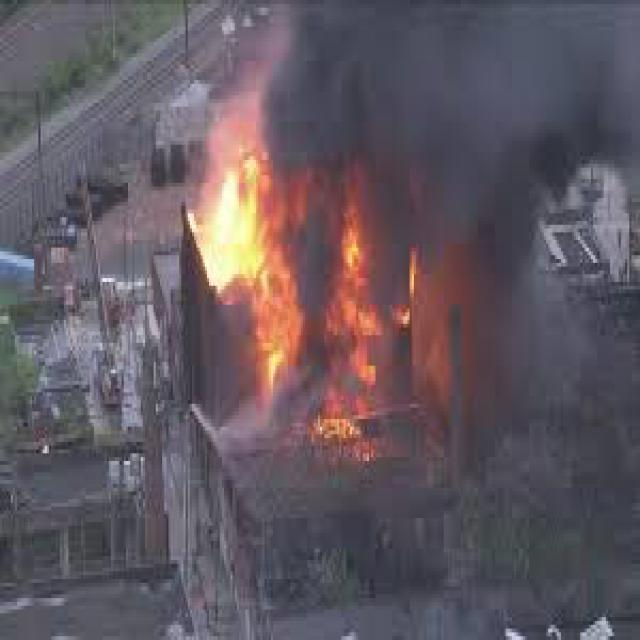Fire: (172, 138, 430, 463)
Smoke: (288, 5, 640, 215)
